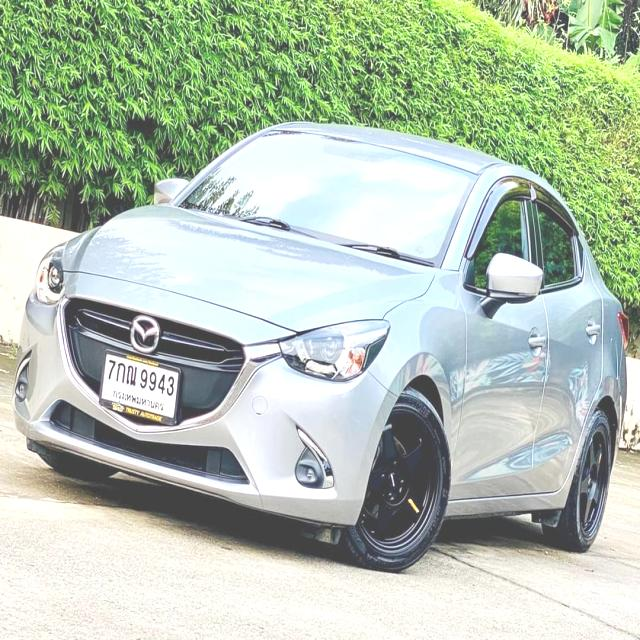license_plate: (96, 344, 185, 430)
